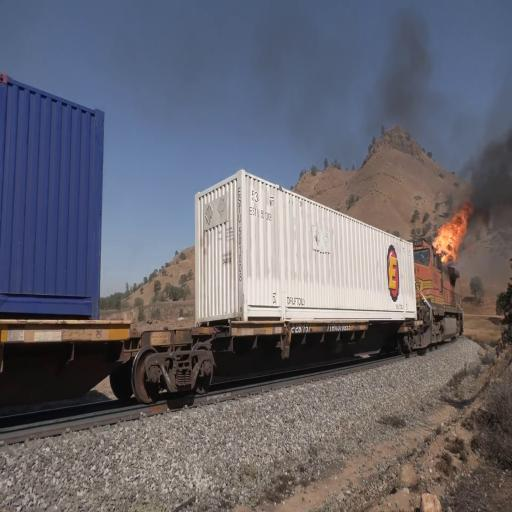fire: (439, 224, 464, 268)
smoke: (378, 34, 408, 122), (466, 165, 510, 225)
